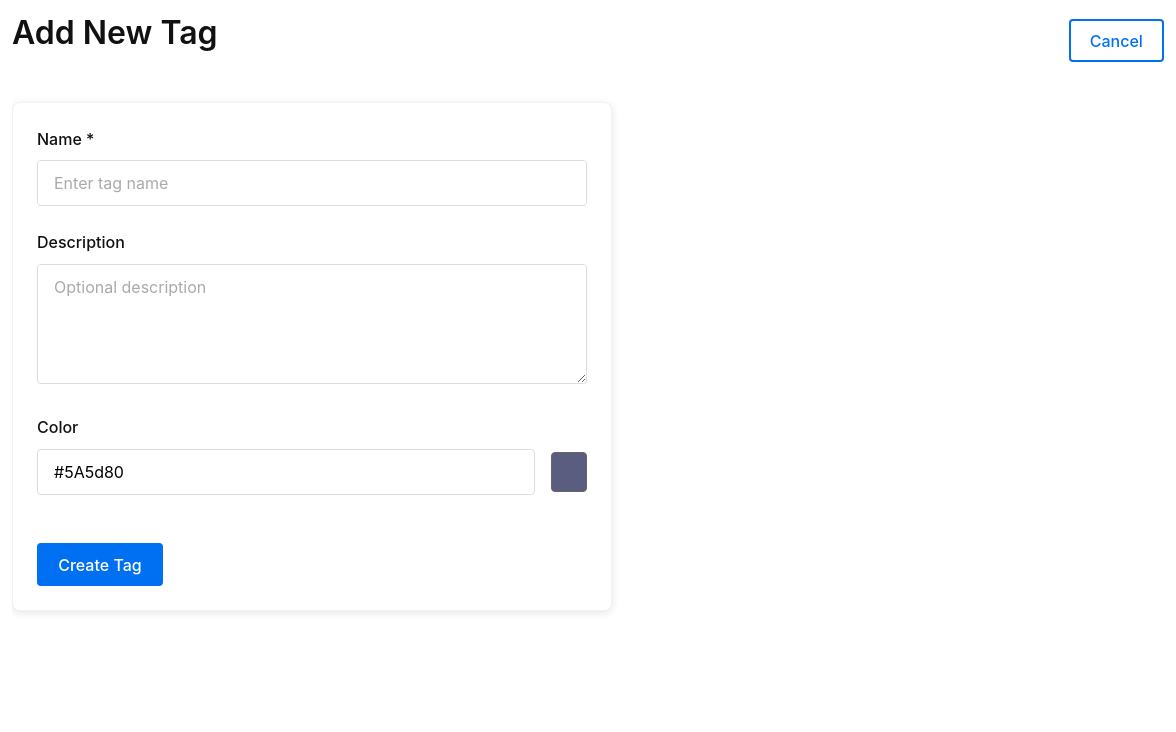
Test: TagEditorPage › Validation › shows error when name is empty on submit
Step 1. Click the button "Create Tag" → (100, 565), box [37,543,163,586]
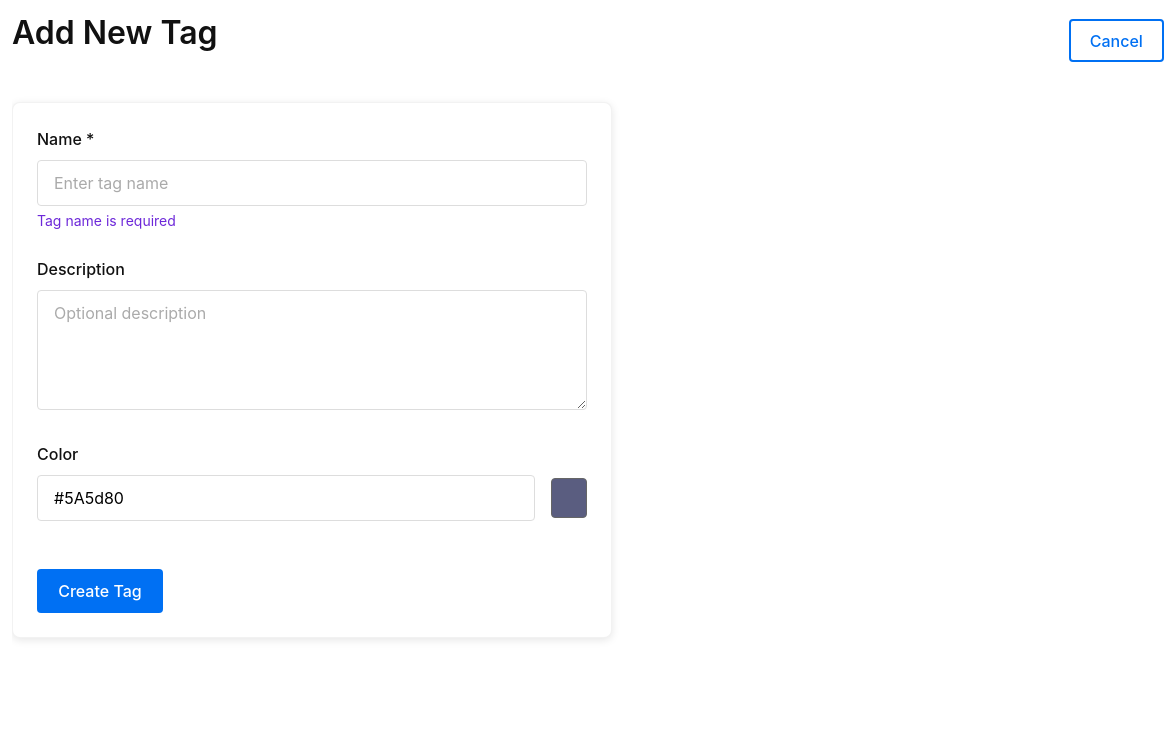
Now the text "Tag name is required" is shown, box [37,212,176,229]
